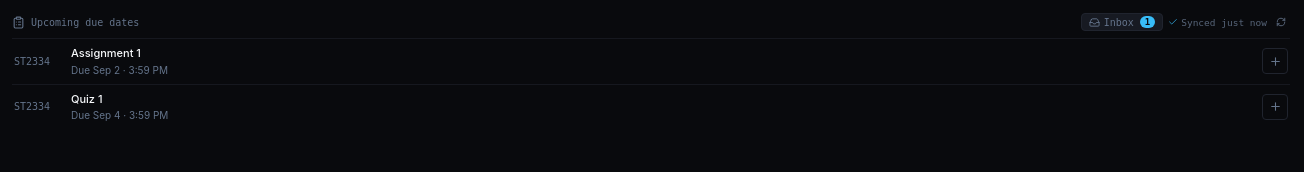
Test: CanvasModule › imports a Canvas deadline to Tasks with stripped HTML and character limit
Click the button named "Add Assignment 1 to Tasks".
click(1275, 61)  # box x1=1262 y1=48 x2=1288 y2=74
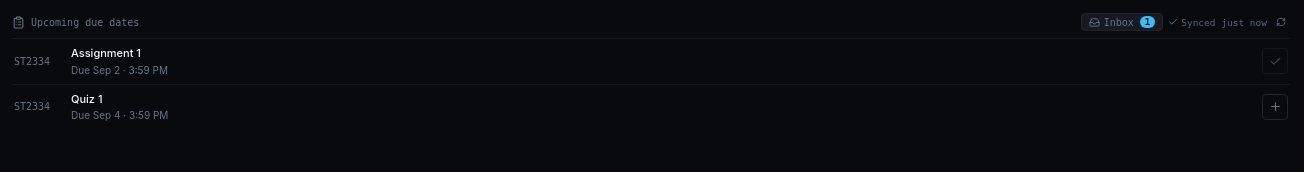
Now the button named "Assignment 1 added to Tasks" is disabled, box x1=1262 y1=48 x2=1288 y2=74
